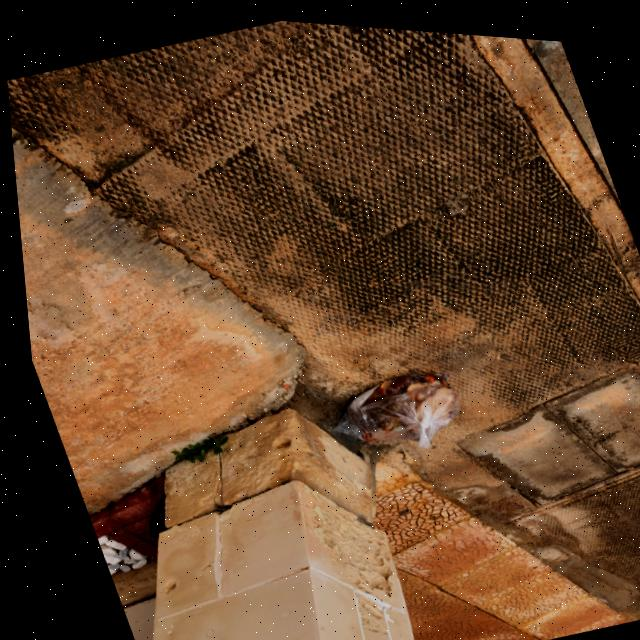Organic Waste -White Bag-: (307, 352, 468, 469)
